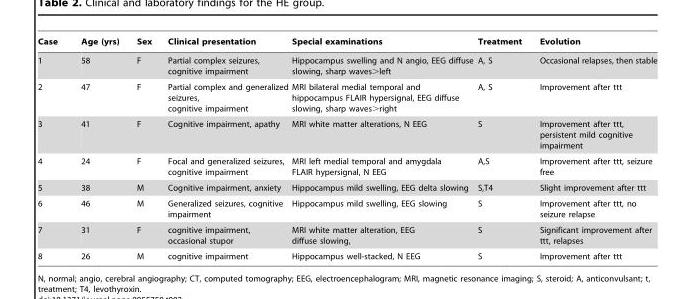table: (36, 36, 656, 260)
table column: (289, 36, 474, 260), (159, 36, 289, 260), (530, 36, 656, 260), (68, 36, 127, 260), (474, 36, 530, 260), (36, 36, 68, 260), (127, 36, 159, 260)
table column header: (36, 36, 656, 50)
table row: (36, 78, 656, 116), (36, 116, 656, 153), (36, 50, 656, 78), (36, 221, 656, 248), (36, 153, 656, 179), (36, 195, 656, 221), (36, 179, 656, 195), (36, 36, 656, 50), (36, 248, 656, 260)
